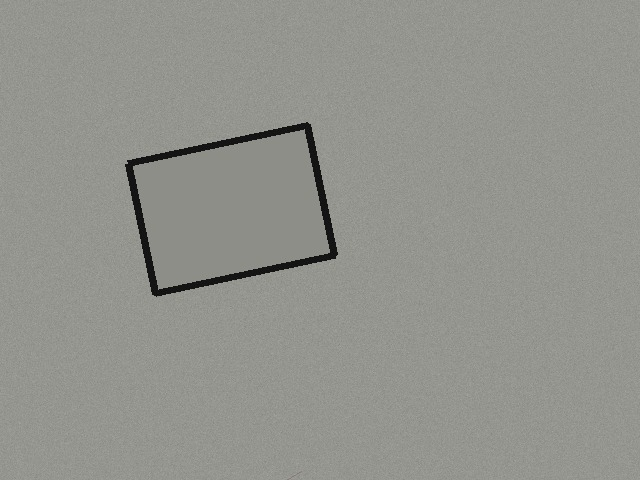parking_area: (128, 125, 334, 293)
